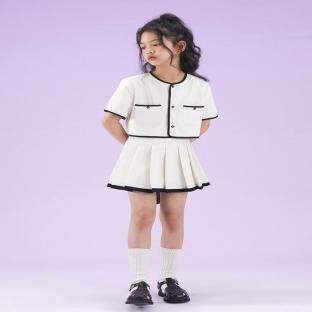Human: (102, 13, 218, 305)
